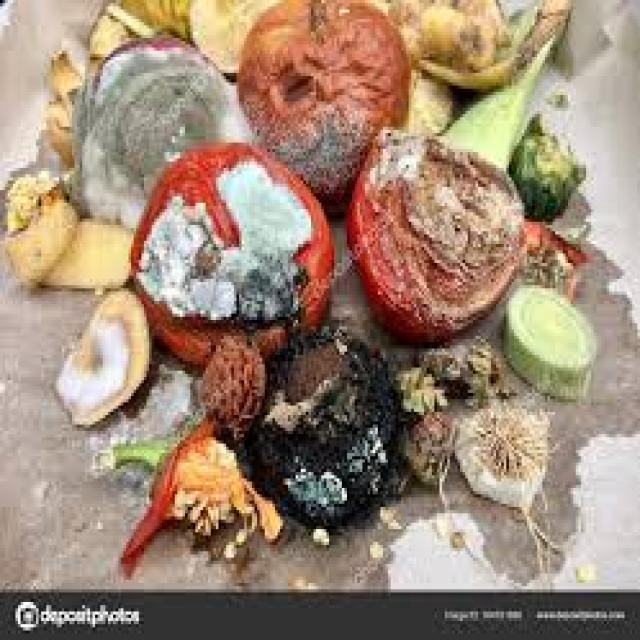food_waste: (5, 0, 591, 564)
